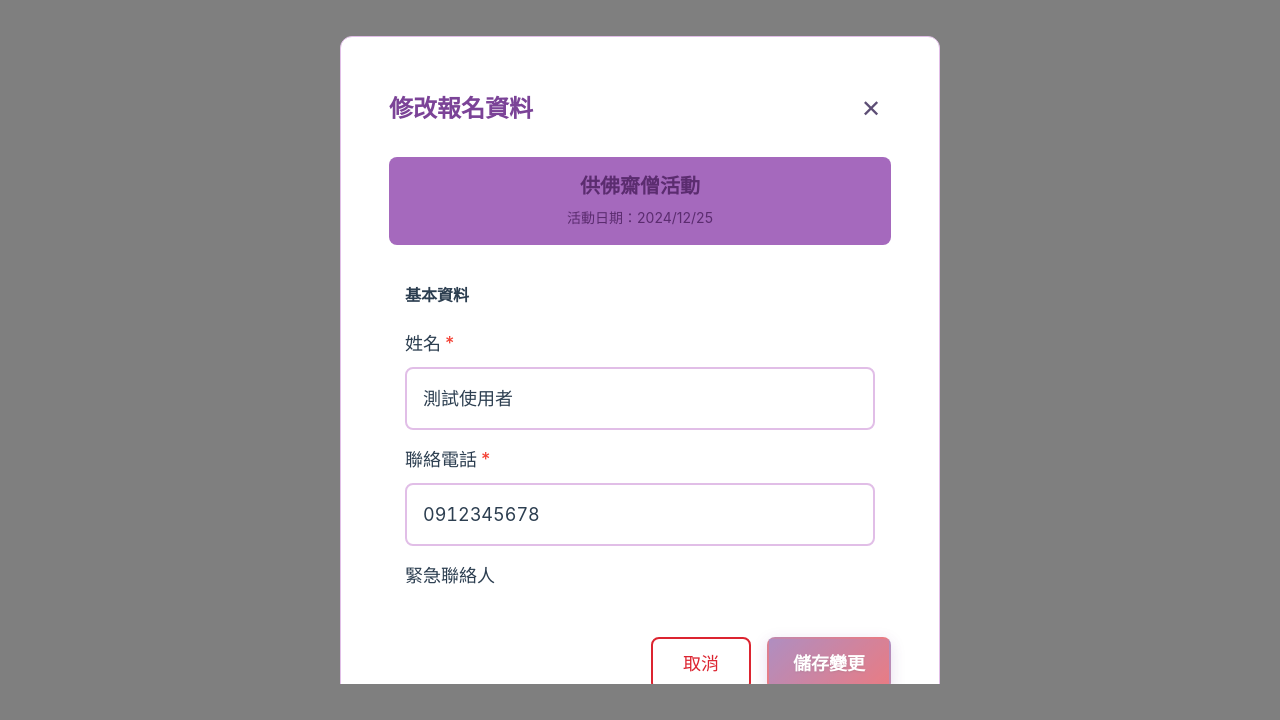
Scenario: RegistrationEditModal Component › 表單驗證 › 應該清除錯誤當修正輸入時
清空姓名並嘗試儲存
Clear the field showing "測試使用者" at (640, 398), box [405, 367, 875, 430]
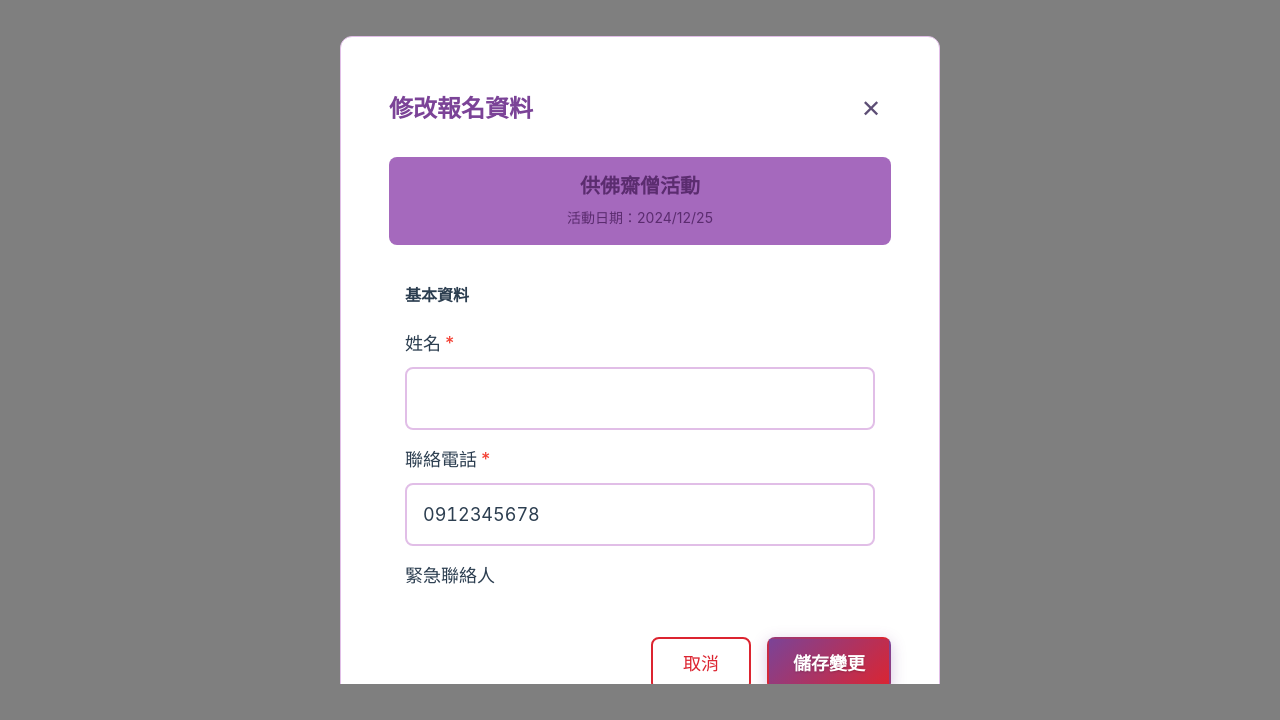
Click the button "儲存變更".
click(829, 664)  # box [767, 637, 891, 691]
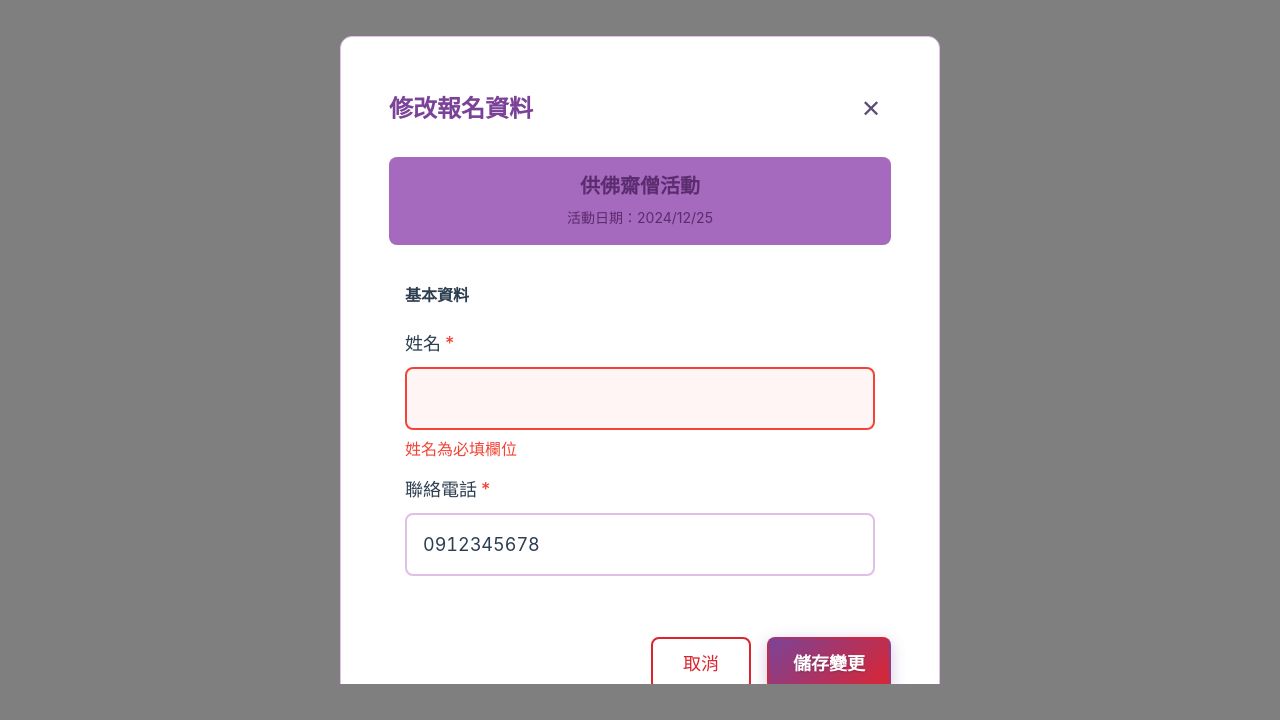
Expected: the text "姓名為必填欄位" is shown, [405, 439, 517, 459]
Type "新姓名" into the field showing "測試使用者".
click(640, 398); type("新姓名")  # box [405, 367, 875, 430]
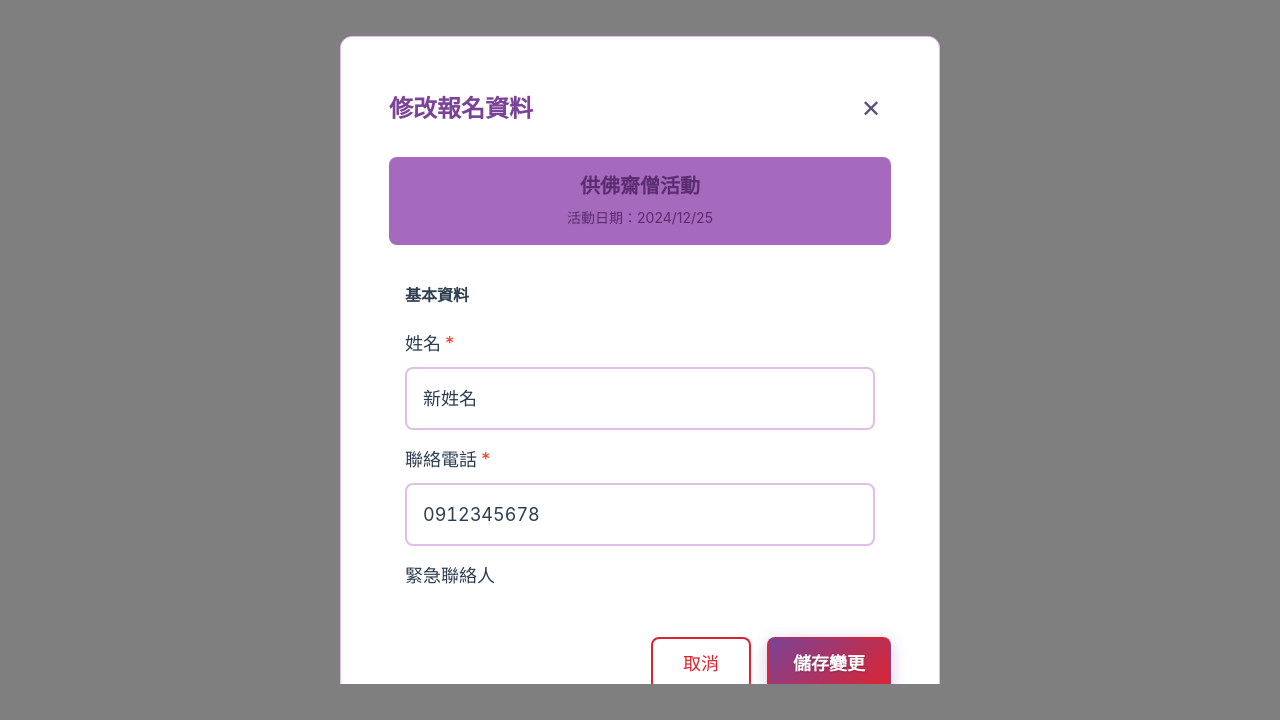
Expected: the text "姓名為必填欄位" is gone
